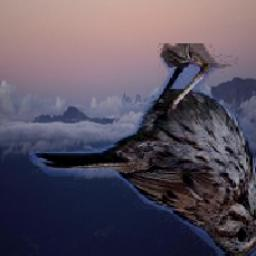Sparrow: (29, 44, 256, 256)
